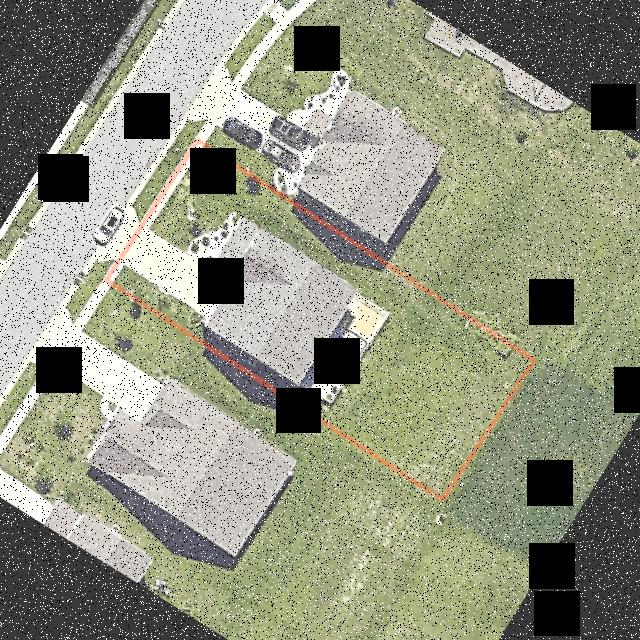Driveway: (120, 225, 231, 317)
Extra Driveway: (97, 205, 139, 261)
Extra Lawn: (131, 126, 196, 222), (88, 258, 115, 279)
Extra Sidewalk: (102, 258, 117, 280)
House: (206, 216, 358, 383)
Other: (300, 293, 389, 403)
Sidewalk: (144, 143, 202, 228), (186, 211, 239, 266), (110, 261, 124, 280)
